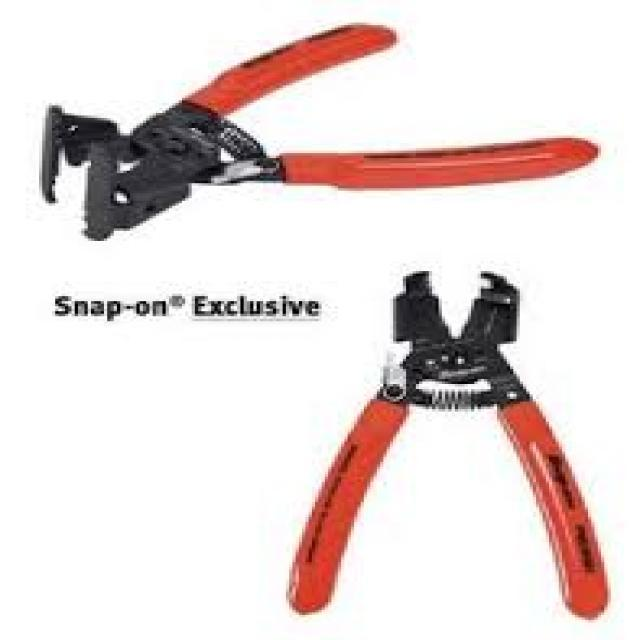pliers: (27, 16, 608, 248), (290, 260, 618, 626)
